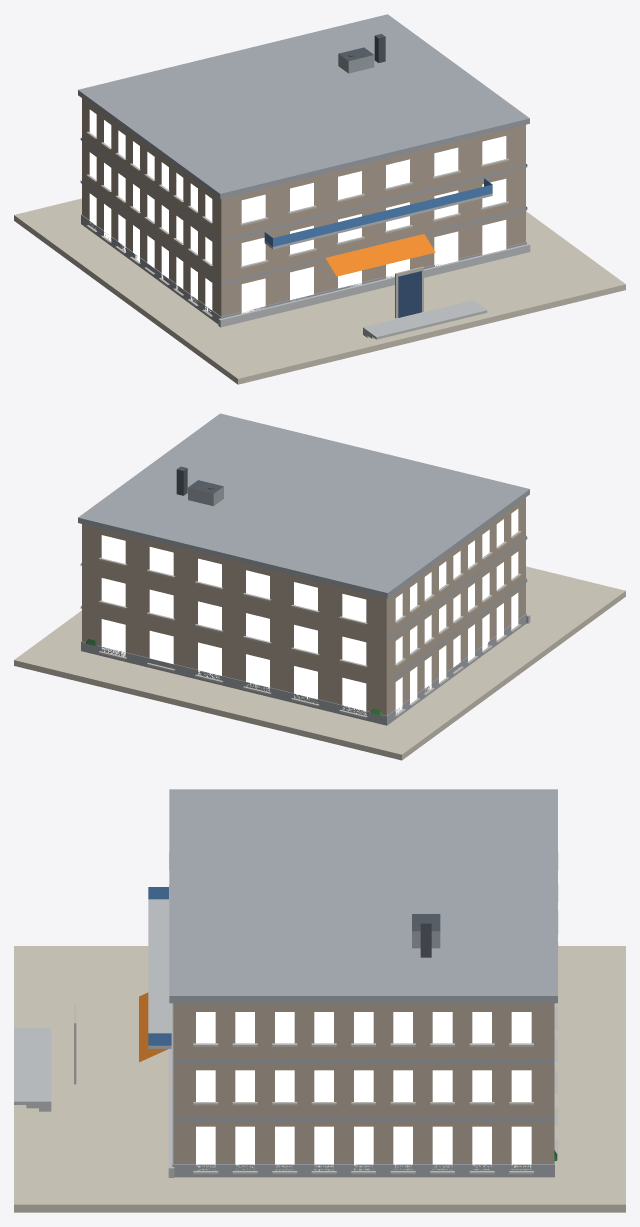
3 views of the same model, one above another, from view 1: azimuth 30°, elevation 25°; view 2: azimuth 150°, elevation 25°; view 3: azimuth 270°, elevation 25° (orthographic). The views are drawn at different scales.
Parts seen in each view (by area): view 1: b02_x2; view 2: b02_x2; view 3: b02_x2.
Part boxes in pixels (x1,y1,x2,y2): b02_x2: (14,14,625,384); b02_x2: (14,413,625,760); b02_x2: (14,789,625,1212).
Size of the model in its own units: 1.96 by 0.805 by 1.96.
